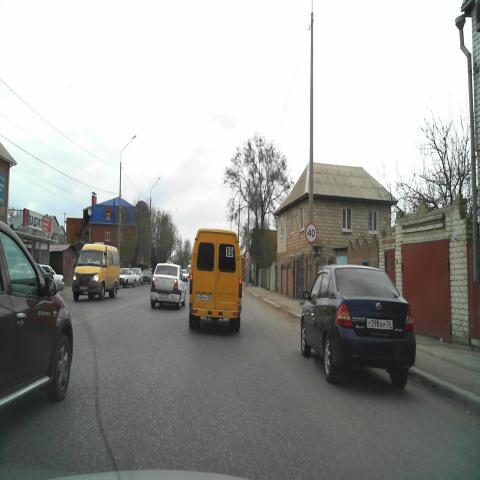3_24: (304, 222, 318, 243)
